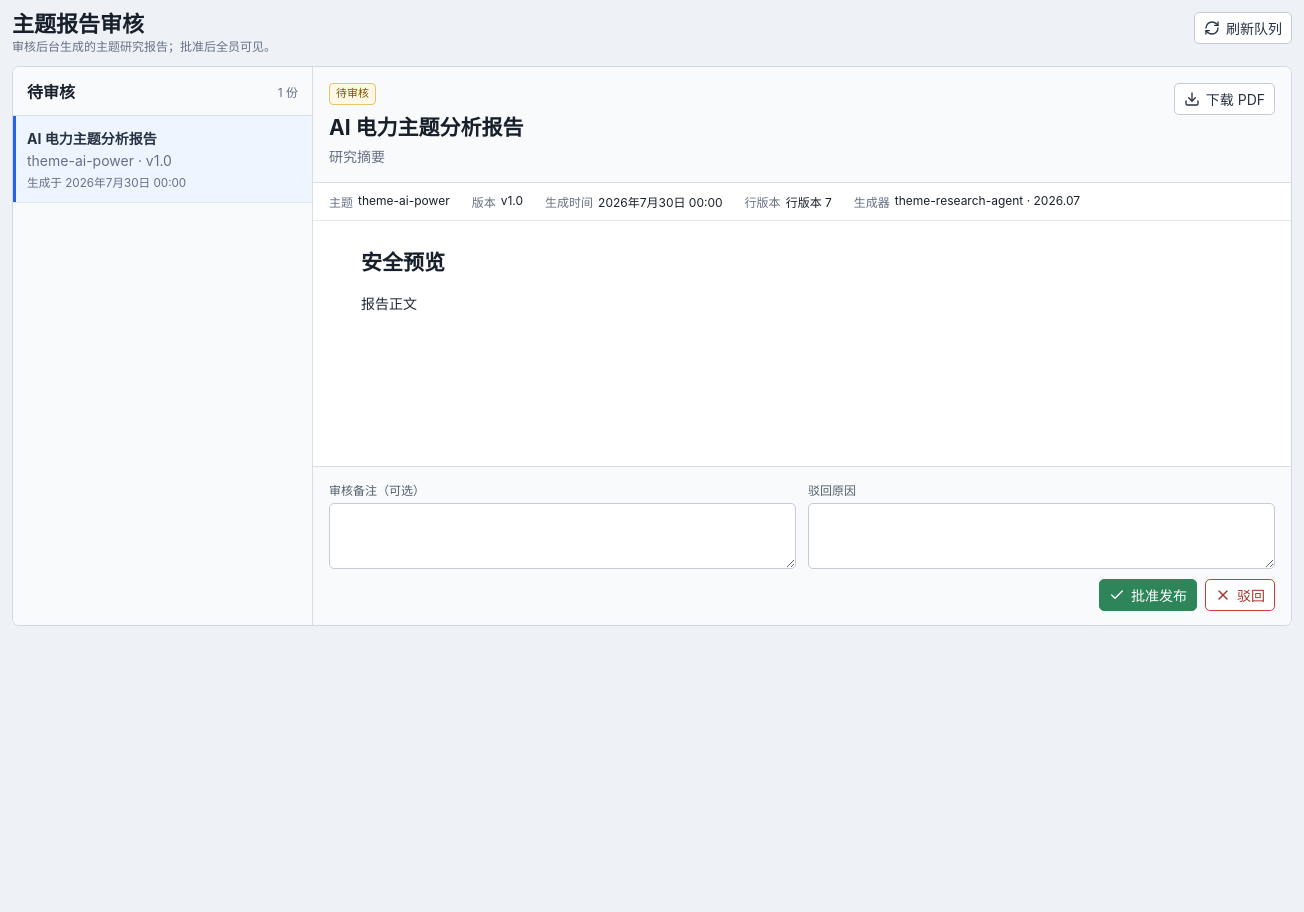
ThemeResearchReportReviewWorkspace › publishes with the current row version, UUID and trimmed optional comment, then removes the departed item
Check: the heading "安全预览" is shown, box [361,250,445,275]
In the text box labelled "审核备注（可选）": (562, 536) [329,503,796,569], type "  同意发布  "
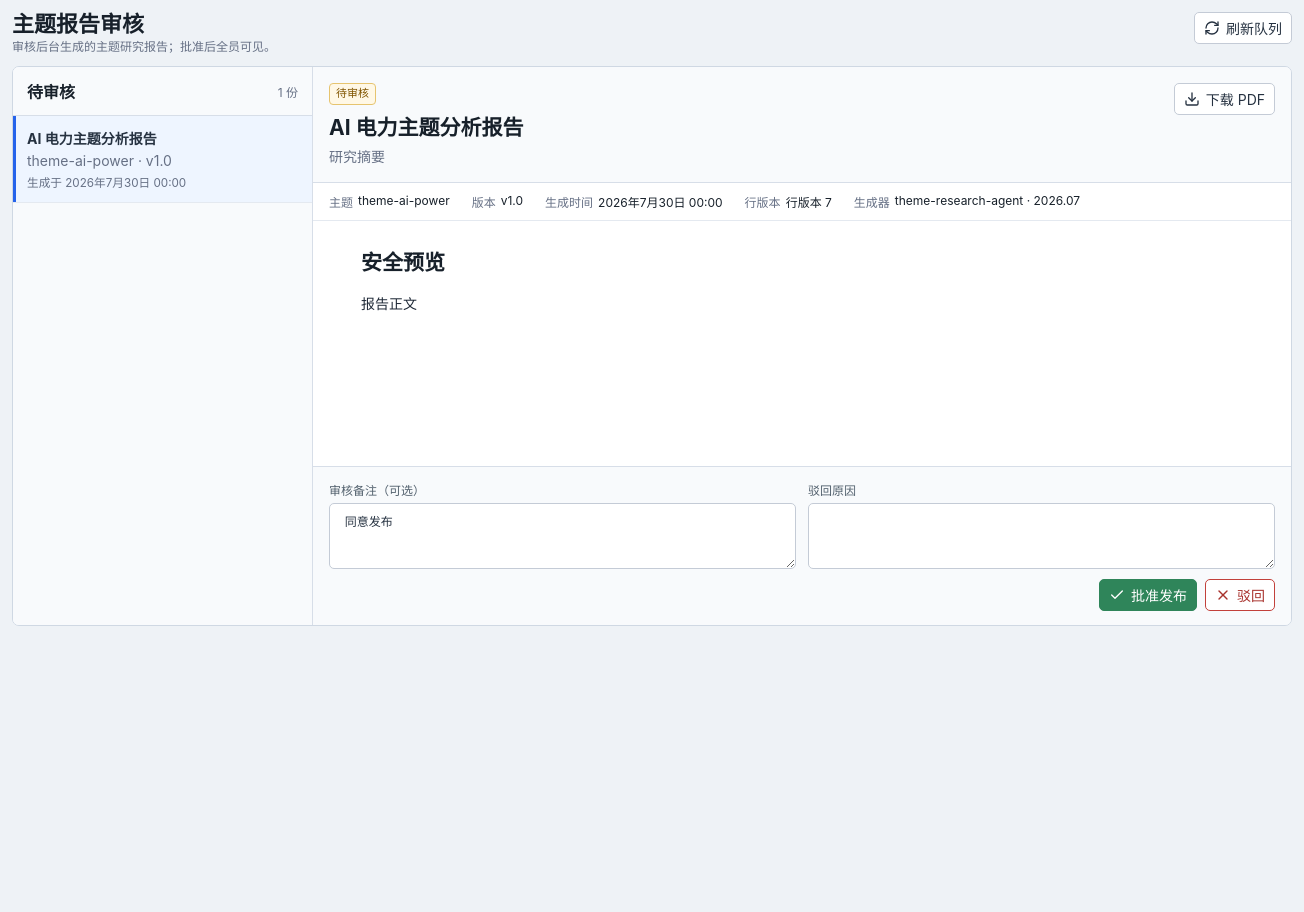
Click the button "批准发布": (1148, 595) [1099,579,1197,611]
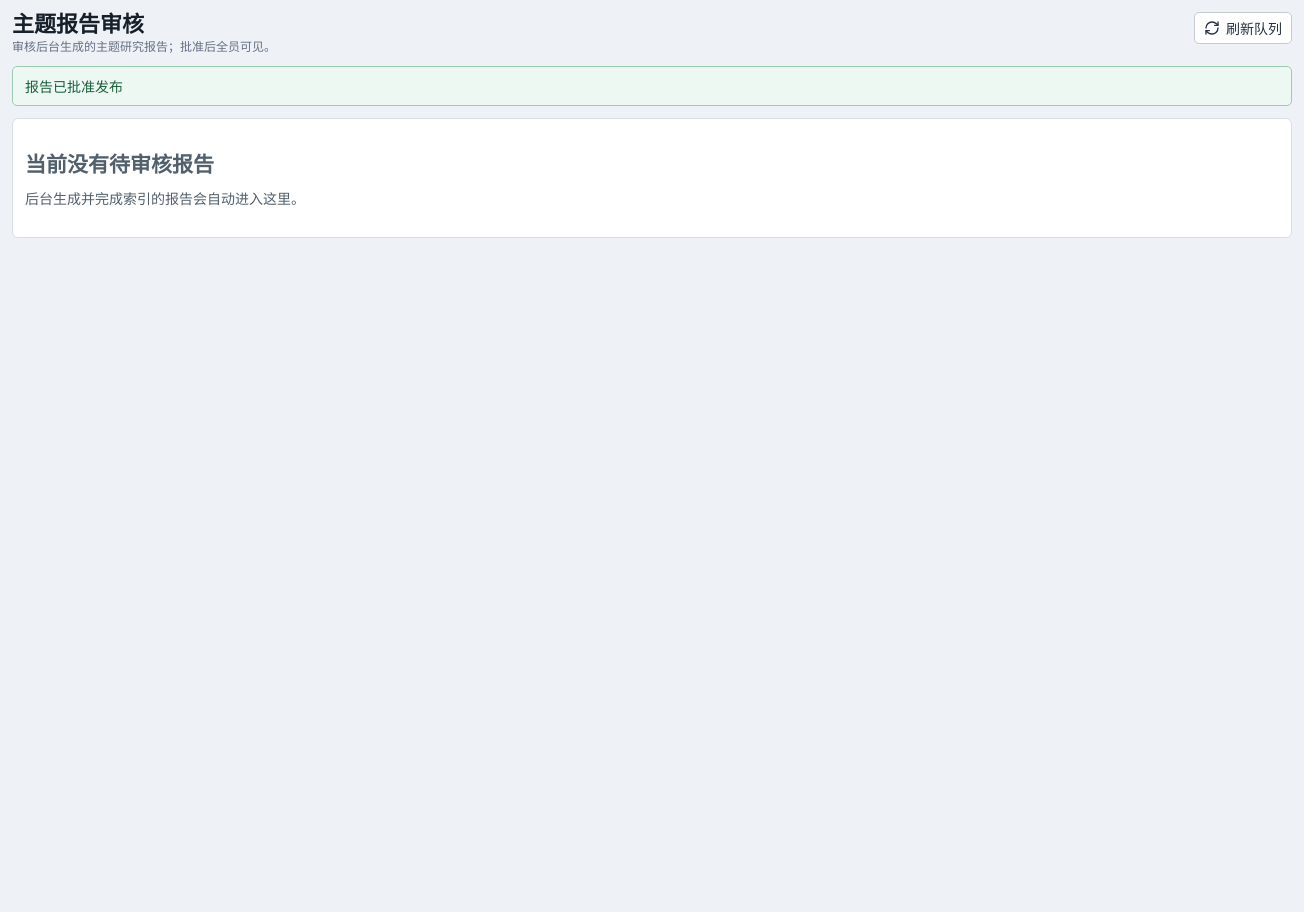
Check: the heading "当前没有待审核报告" is shown, box [25,148,214,178]
Check: the heading "安全预览" is gone
